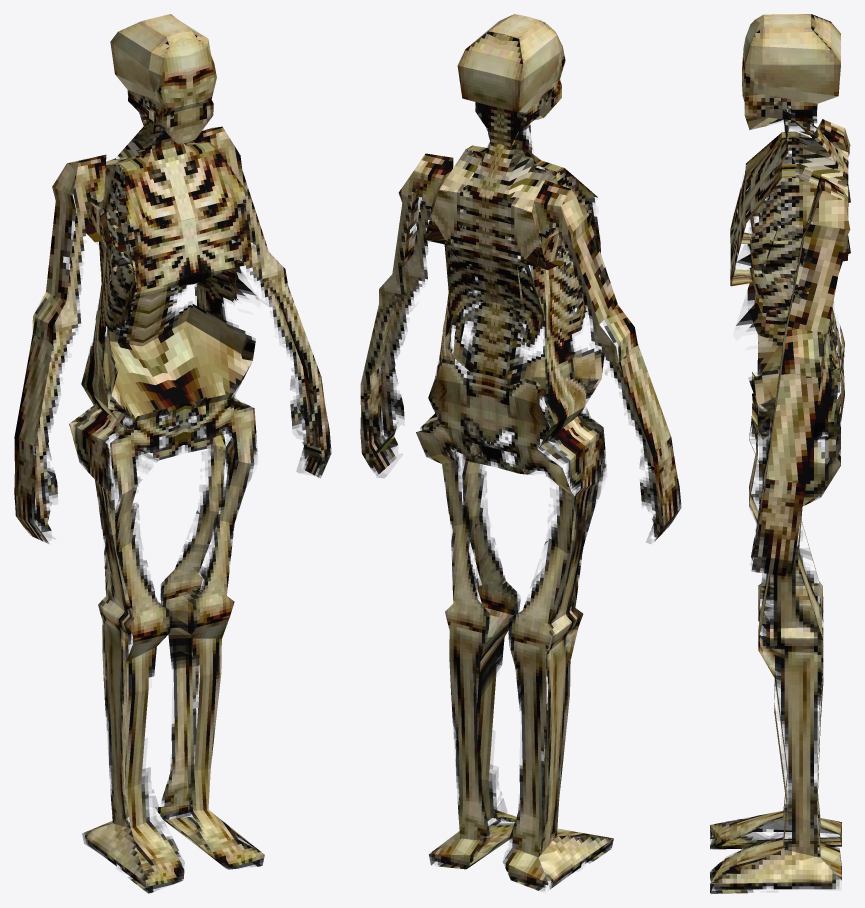
File: skeletonnnnnnn.glb
The picture shows the model from 3 angles, left to right: view 1: azimuth 30°, elevation 25°; view 2: azimuth 150°, elevation 25°; view 3: azimuth 270°, elevation 25°; orthographic projection. The views are drawn at different scales.
Parts seen in each view (by area): view 1: skeletonps1; view 2: skeletonps1; view 3: skeletonps1.
Part boxes in pixels (x1,y1,x2,y2): skeletonps1: (14,14,331,893); skeletonps1: (360,14,681,893); skeletonps1: (710,14,850,893).
Bounding box in the file's own units: 0.7407 × 1.97 × 0.2976.
1 material, 1 textured.
